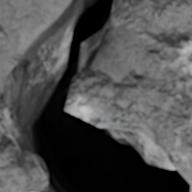broken_brick: (67, 0, 191, 182), (0, 0, 65, 79), (0, 88, 46, 191)
crack: (0, 0, 191, 191)
